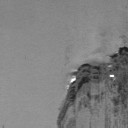slag inclusion: (57, 46, 128, 128)
